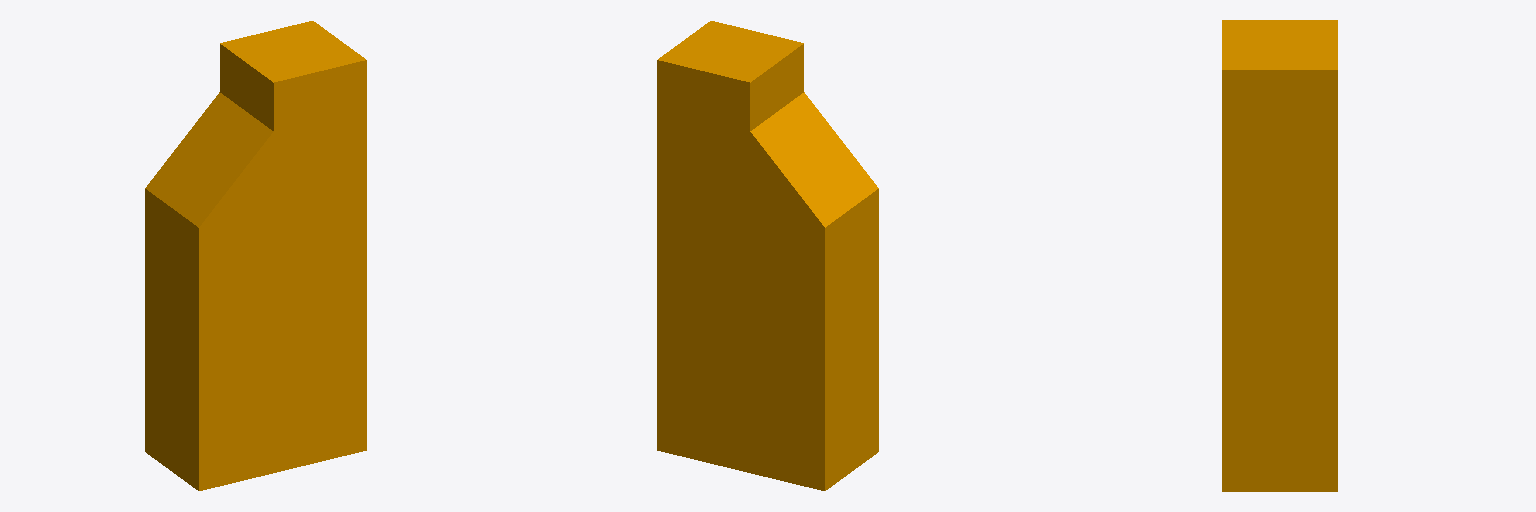
URDF robot description (oilBottleWithCap.off):
<?xml version="1.0"?>
<robot name="oilBottleWithCap.off">
	<link name="oilBottleWithCap.off">
		<inertial>
			<!--origin xyz="0 0 0" rpy="0 0 0" /-->
			<mass value="0.5" />
			<!--inertia ixx="0.000360" ixy="0" ixz="0" iyy="0.0000615" iyz="0" izz="0.00036" /-->
		</inertial>
    		<visual>
	      		<!--origin rpy="0 0 0" xyz="0 0 0"/-->
      			<geometry>
        			<mesh filename="oilBottleWithCap.off.obj"/>
      			</geometry>
         	</visual>
    		<collision>
      			<!--origin rpy="0 0 0" xyz="0 0 0"/-->
      			<geometry>
        			<mesh filename="oilBottleWithCap.off.obj"/>
      			</geometry>
    		</collision>
	</link>
</robot>

--- Facts derived from the render (not from the file) ---
Views: 3 orthographic renders of the robot side by side, from view 1: azimuth 30°, elevation 25°; view 2: azimuth 150°, elevation 25°; view 3: azimuth 270°, elevation 25°.
Robot: oilBottleWithCap.off — 1 links, 0 joints (none); root link oilBottleWithCap.off; default pose: every joint at zero.
Links seen in each view (by area): view 1: oilBottleWithCap.off; view 2: oilBottleWithCap.off; view 3: oilBottleWithCap.off.
Boxes of the visible links, <box> form: oilBottleWithCap.off: <box>145,21,366,490</box>; oilBottleWithCap.off: <box>657,21,878,490</box>; oilBottleWithCap.off: <box>1222,20,1337,491</box>.
Bounding box of the posed robot: 0.09 × 0.05 × 0.2 m (x, y, z).
1 mesh visuals loaded from 1 distinct referenced files (1 OBJ).